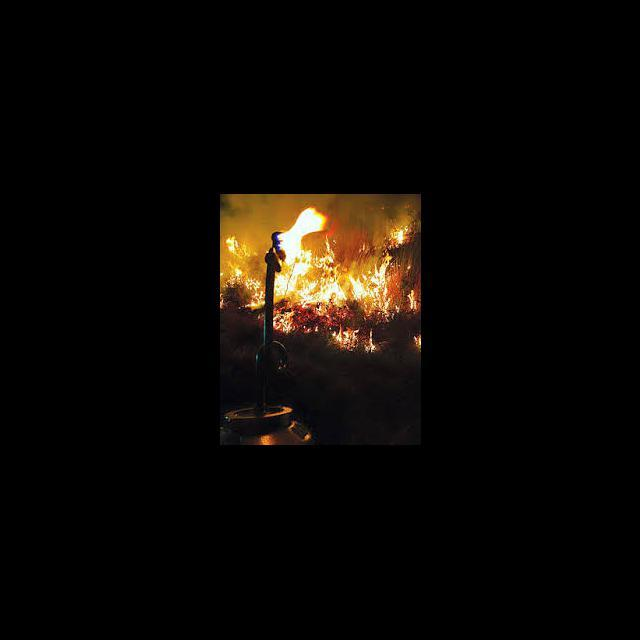Fire: (274, 242, 342, 312), (278, 204, 330, 258), (352, 262, 394, 321), (220, 266, 263, 312), (331, 325, 359, 351), (388, 223, 416, 247), (222, 232, 246, 256), (364, 326, 382, 354), (406, 290, 418, 310), (356, 238, 370, 255), (412, 334, 421, 353)
Smoke: (220, 194, 274, 230), (334, 196, 382, 234)
